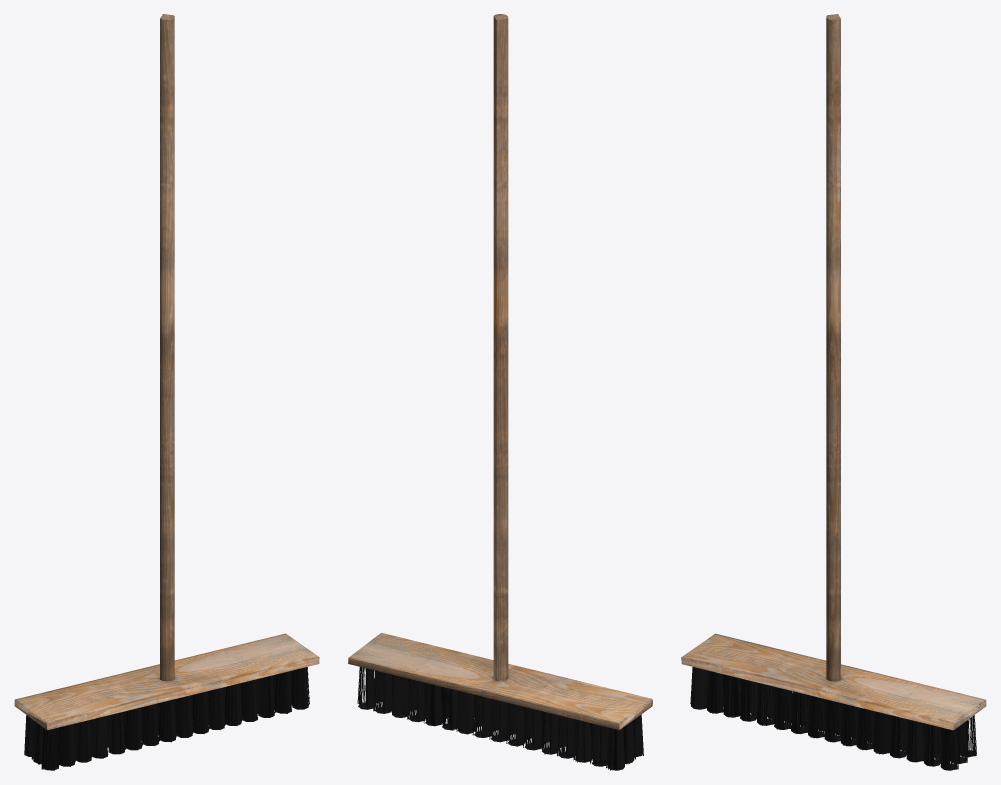
The model's file is broom 1.fbx.
The picture shows the model from 3 angles, left to right: view 1: azimuth 30°, elevation 25°; view 2: azimuth 150°, elevation 25°; view 3: azimuth 330°, elevation 25°; orthographic projection.
Parts seen in each view (by area): view 1: brush01Shape; view 2: brush01Shape; view 3: brush01Shape.
Part boxes in pixels (x1,y1,x2,y2): brush01Shape: (14,14,319,770); brush01Shape: (348,14,652,770); brush01Shape: (681,14,986,770).
Bounding box in the file's own units: 0.801 × 2 × 0.1692.
Materials: 1 (1 with a texture image).
